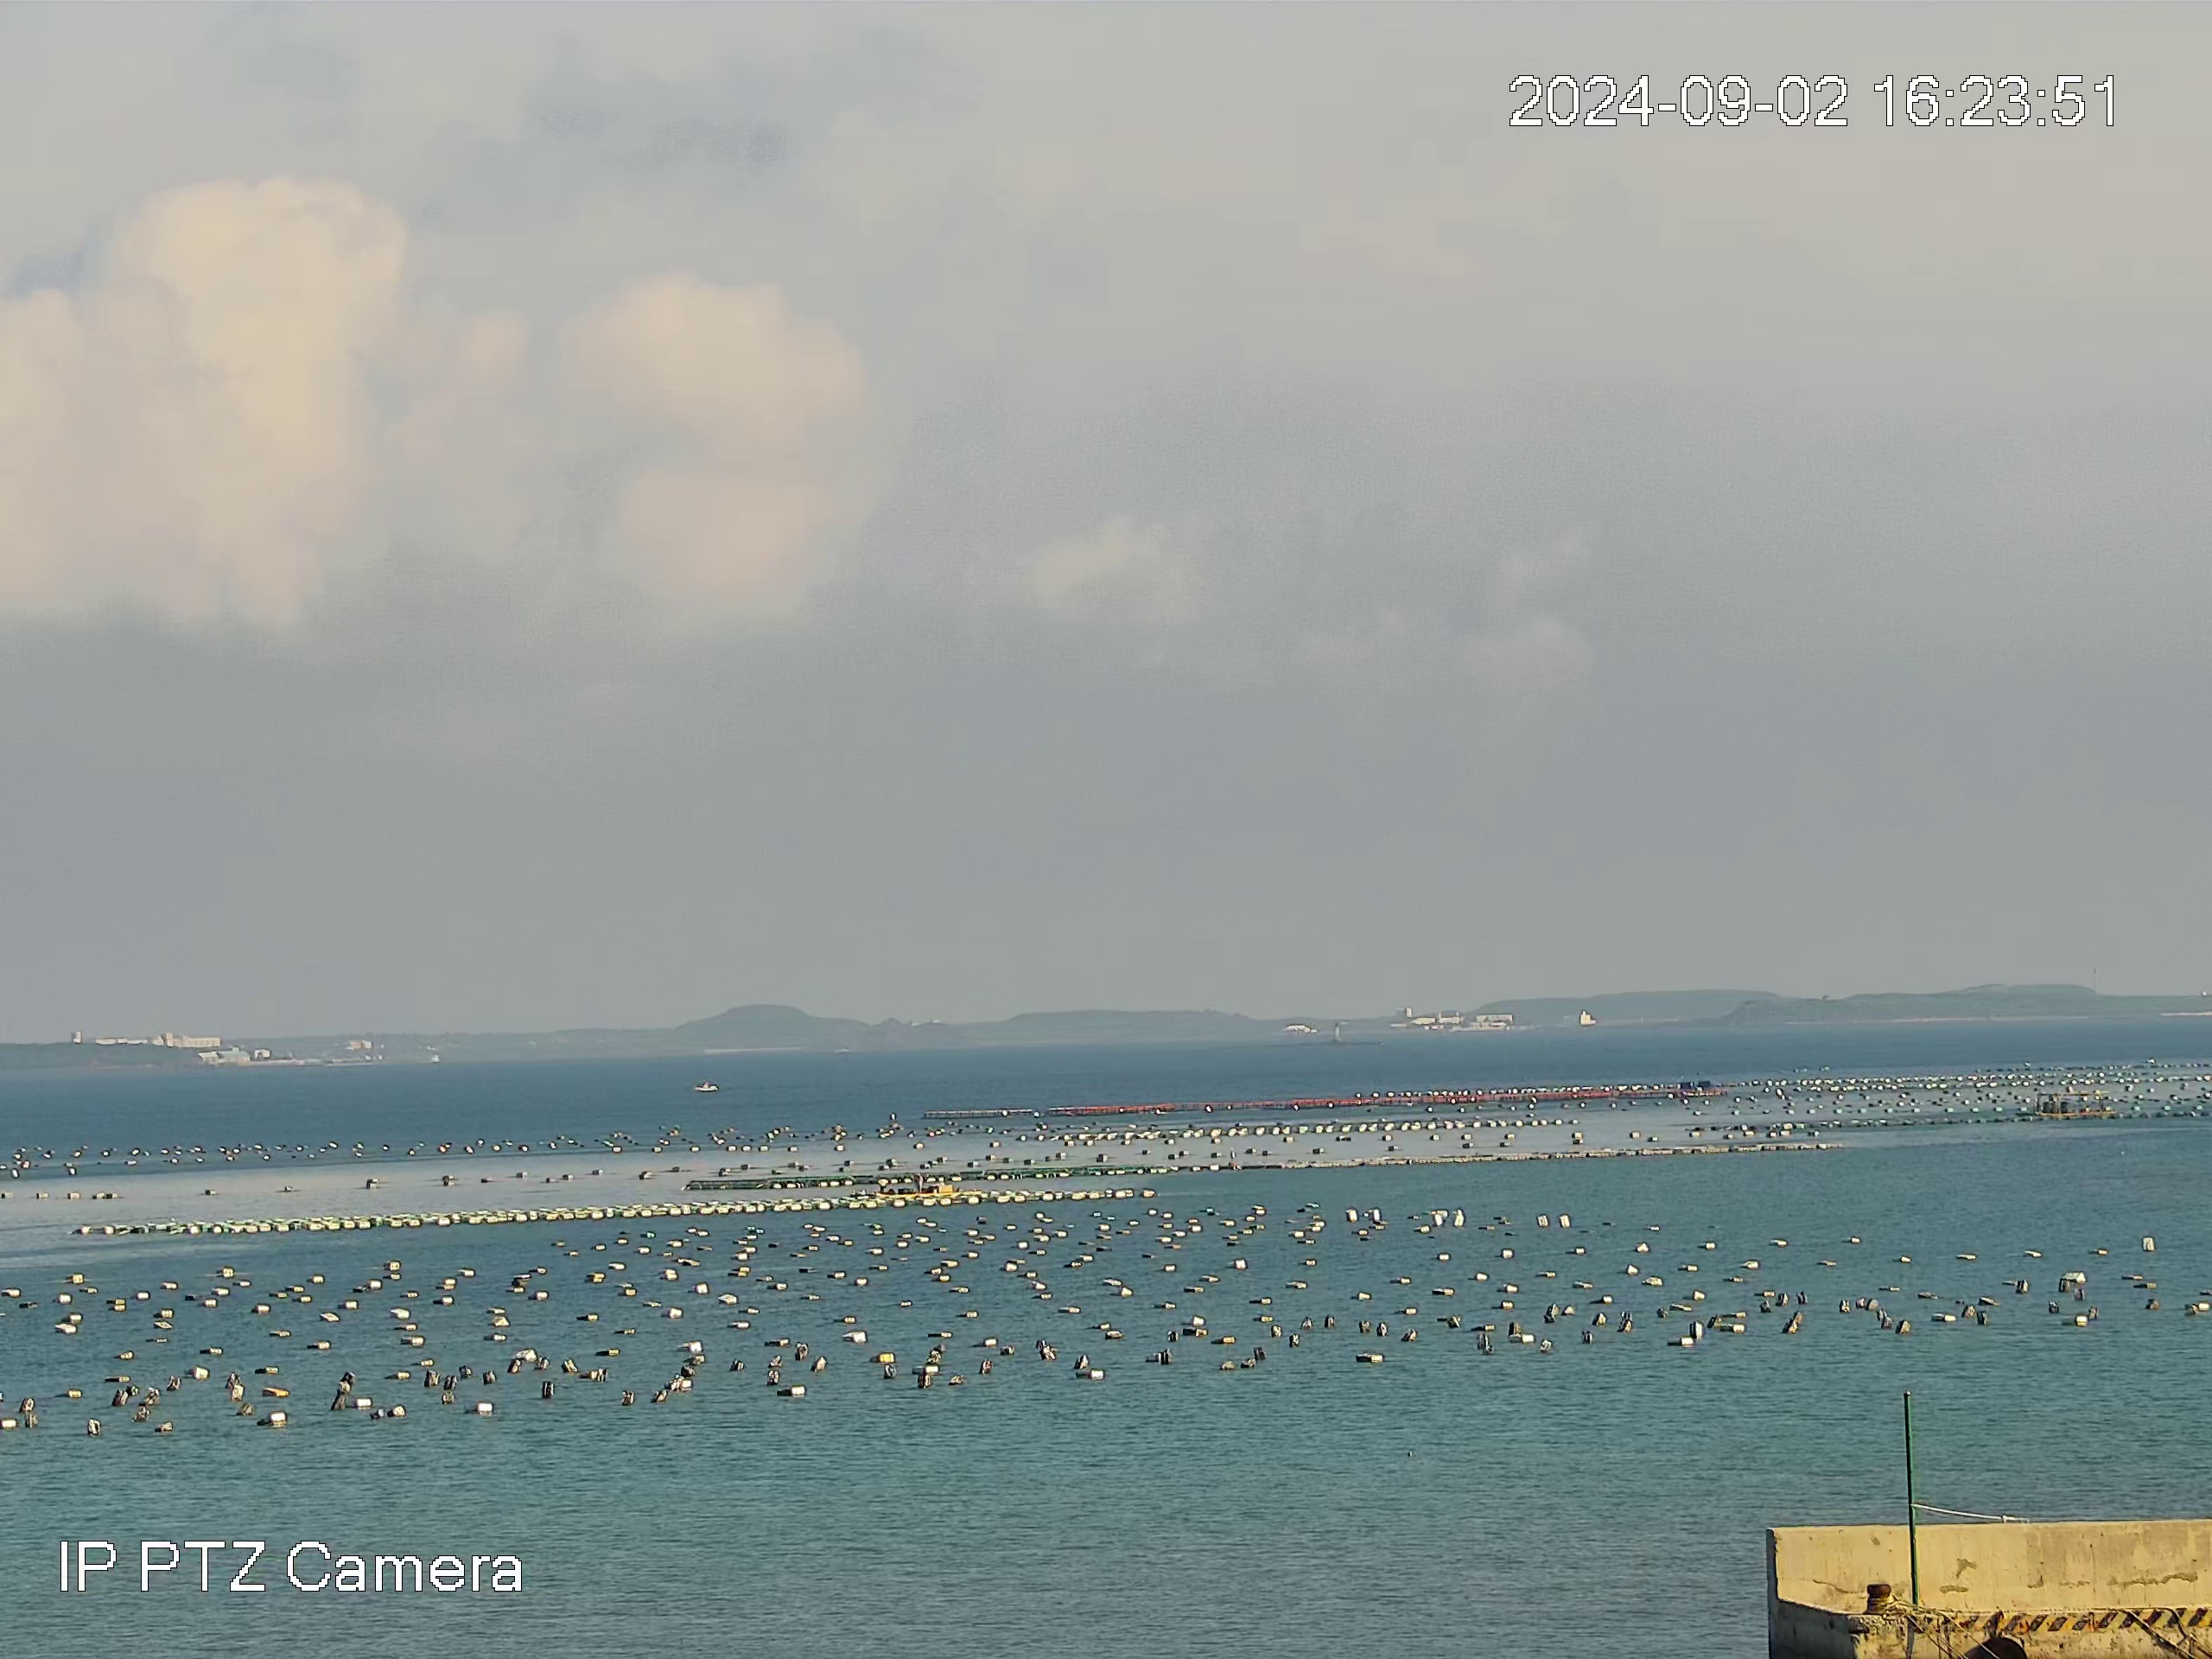boat: (873, 1175, 984, 1197), (2034, 1089, 2114, 1121), (693, 1080, 719, 1094)
